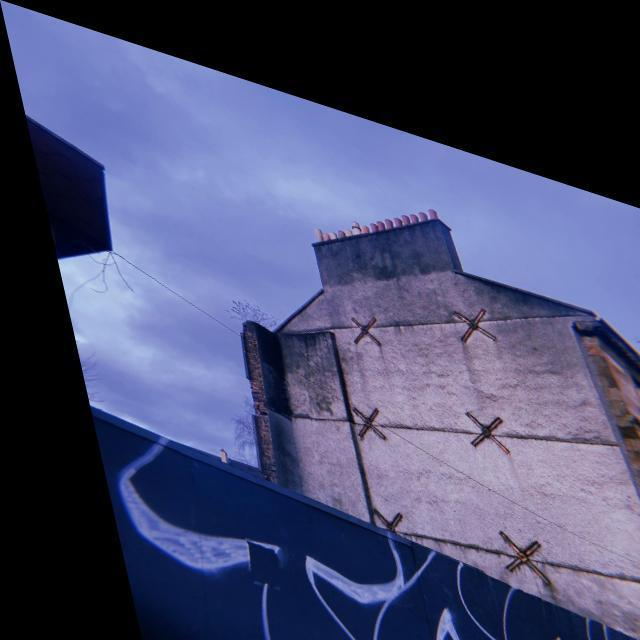-: (105, 422, 640, 640)
